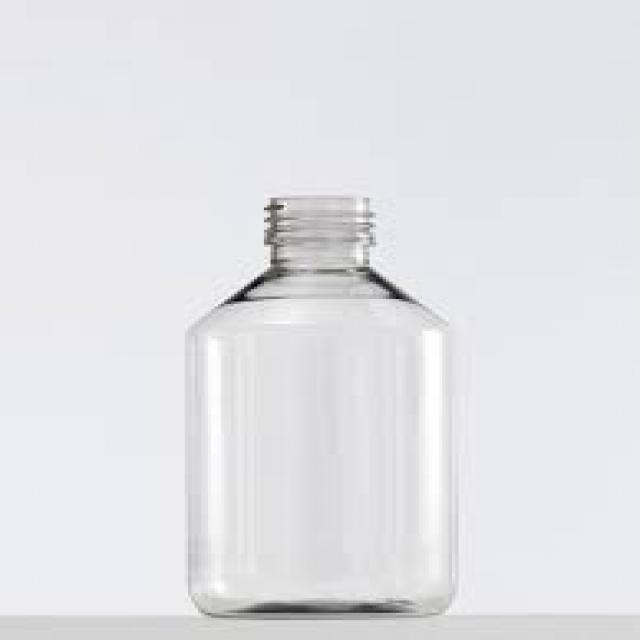Glass-Non-Biodegradable but Recyclable-: (179, 197, 459, 623)
